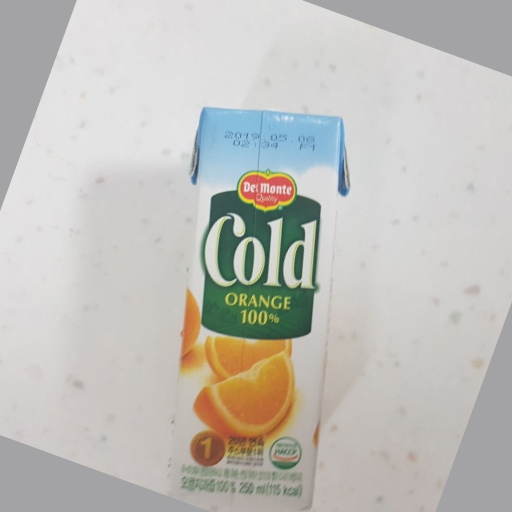Paper_0: (155, 92, 354, 512)
